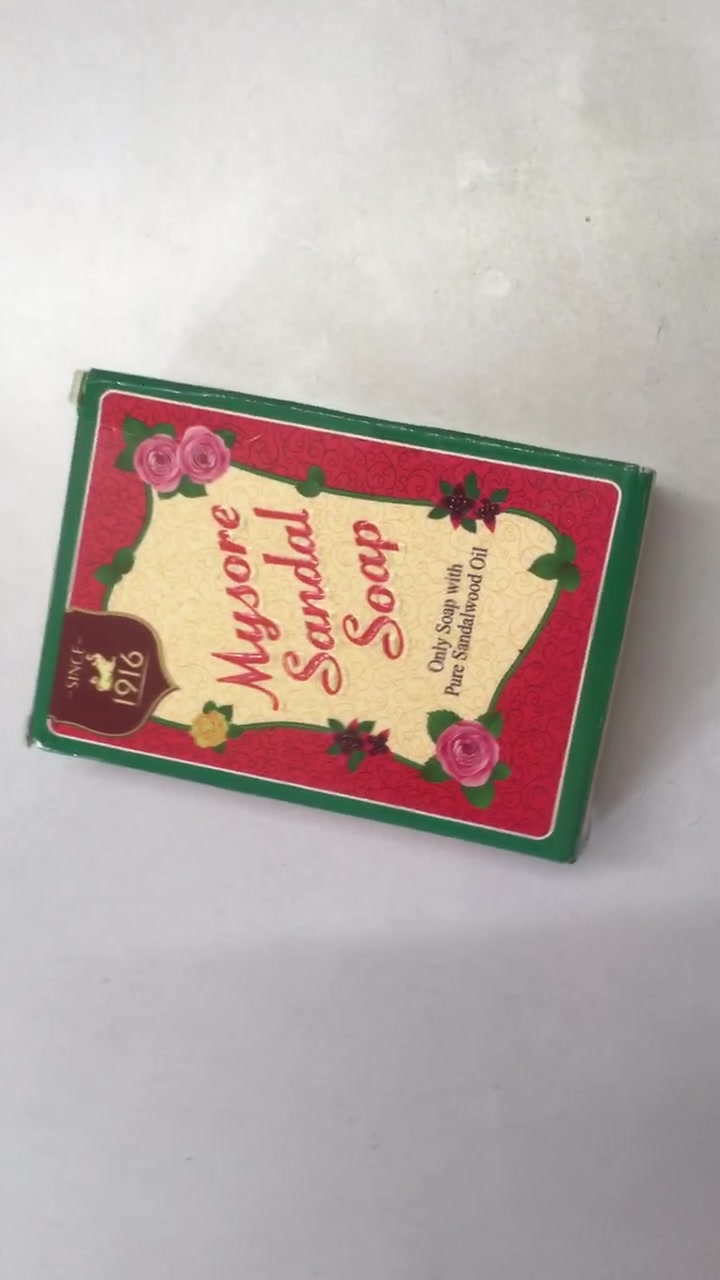mysore sandal soap: (28, 378, 659, 870)
